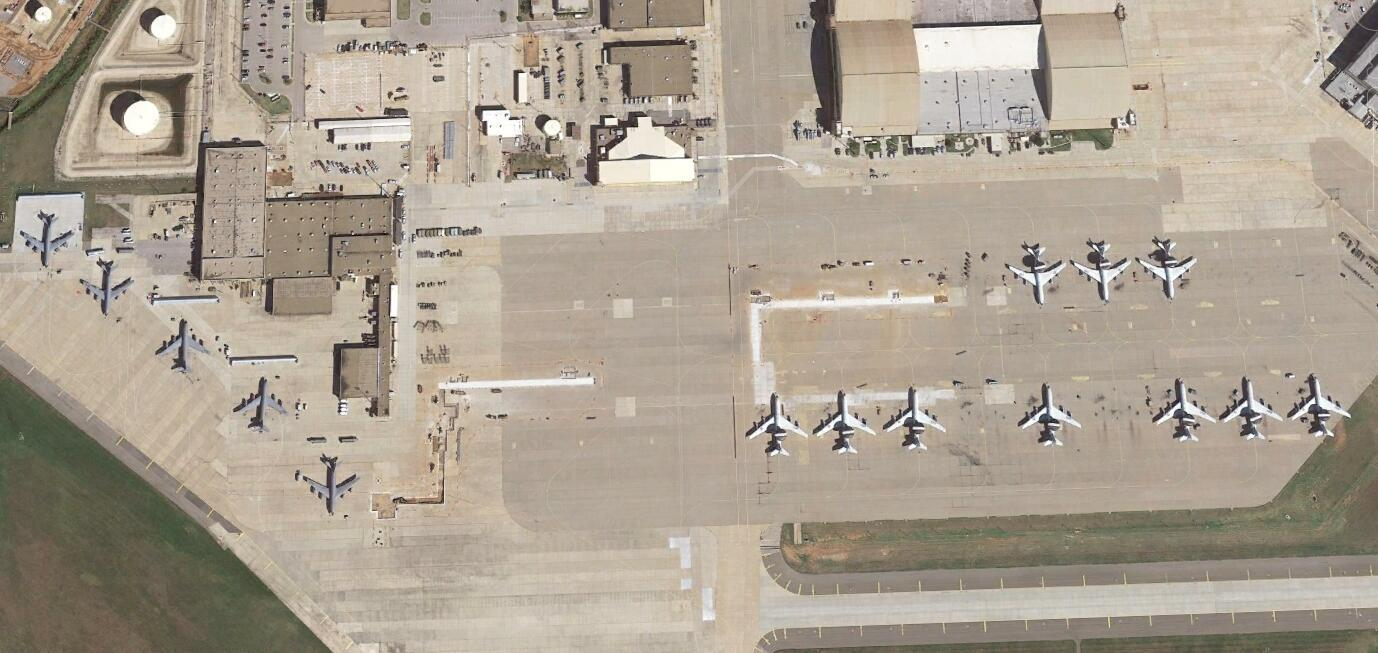A14: (300, 453, 362, 515), (75, 256, 133, 314), (19, 211, 78, 267), (230, 376, 290, 430), (155, 317, 212, 370)
A7: (1286, 373, 1352, 440), (1018, 380, 1080, 449), (743, 390, 805, 456), (883, 386, 944, 453), (812, 389, 875, 453), (1221, 374, 1281, 440), (1069, 237, 1131, 299), (1153, 378, 1212, 443), (1136, 237, 1197, 298), (1006, 243, 1064, 303)
